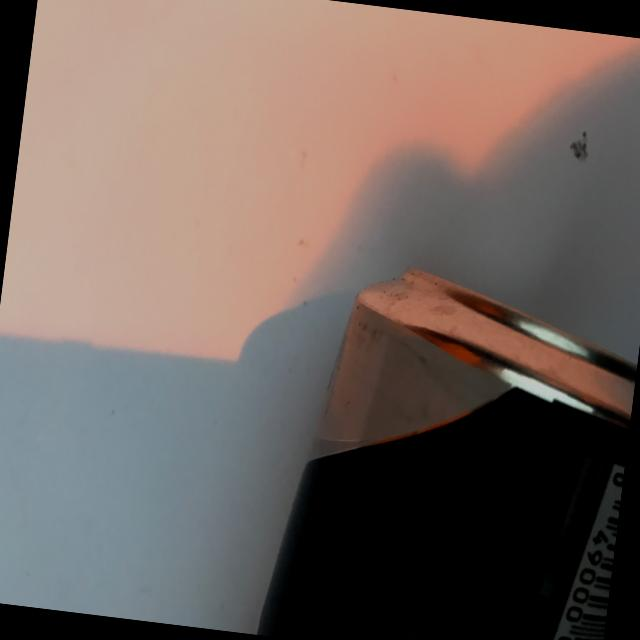Metal: (240, 213, 640, 640)
